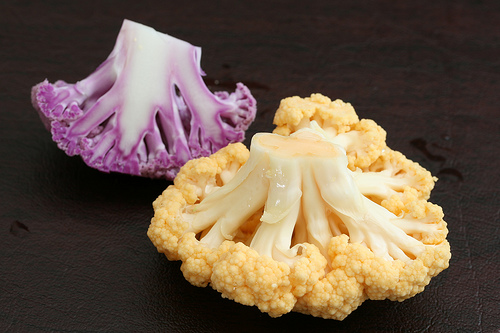cauliflower: (145, 92, 454, 322), (29, 18, 256, 178)
